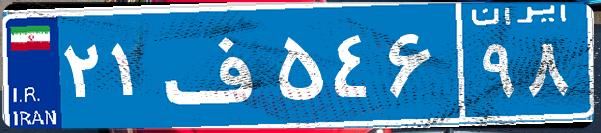1: (110, 28, 158, 105)
2: (57, 26, 110, 107)
4: (330, 28, 385, 110)
5: (273, 28, 330, 110)
6: (385, 28, 445, 110)
8: (525, 38, 570, 115)
9: (475, 38, 525, 113)
ف: (158, 15, 273, 115)
